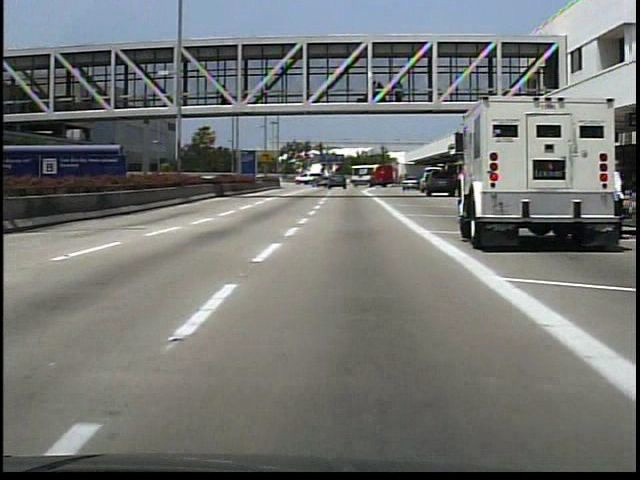person: (605, 154, 625, 243)
